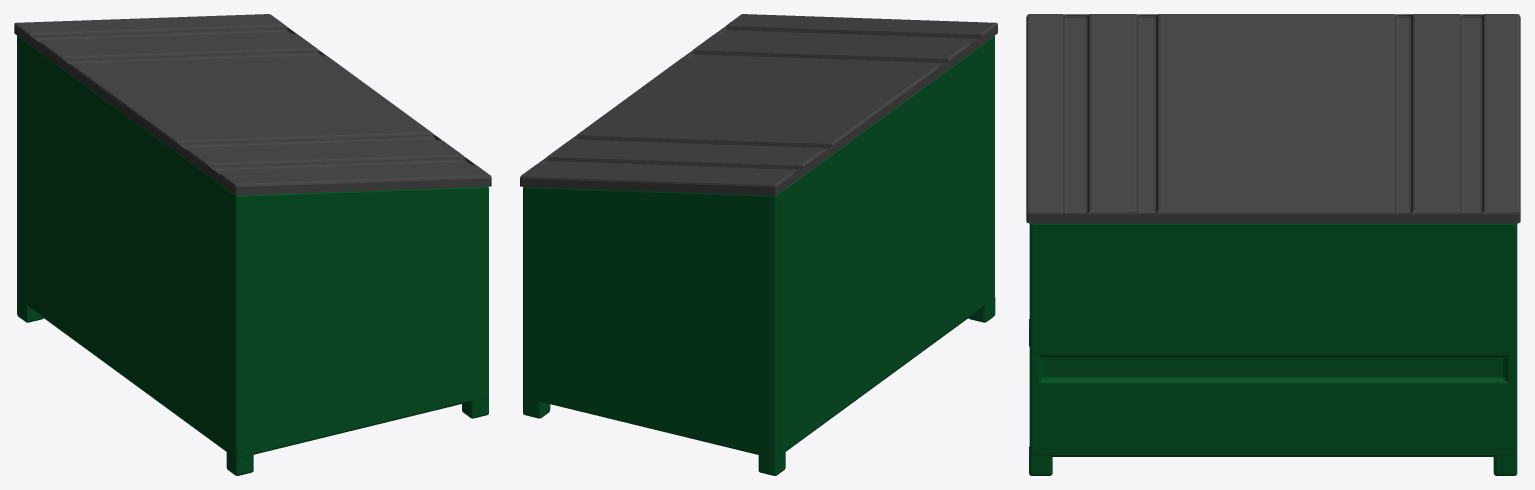
Rendered from BigDumpy.fbx.
3 views of the same model, side by side, from view 1: azimuth 30°, elevation 25°; view 2: azimuth 150°, elevation 25°; view 3: azimuth 270°, elevation 25° (orthographic). The views are drawn at different scales.
Parts seen in each view (by area): view 1: Dumpy.001; view 2: Dumpy.001; view 3: Dumpy.001.
Part boxes in pixels (<box>): Dumpy.001: <box>14,14,491,475</box>; Dumpy.001: <box>520,14,997,475</box>; Dumpy.001: <box>1026,14,1520,475</box>.
Size of the model in its own units: 25.31 by 27.6 by 37.97.
